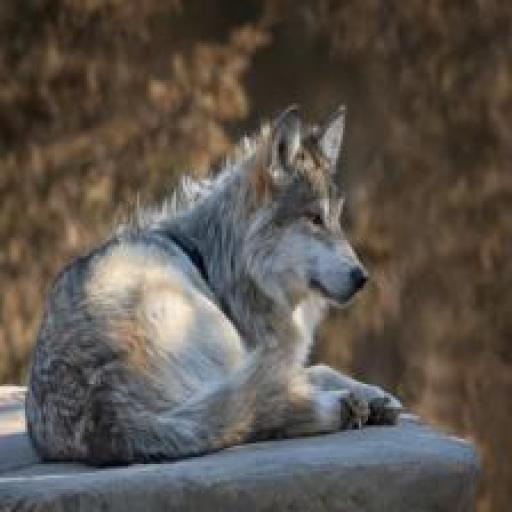wolf: (16, 100, 415, 462)
